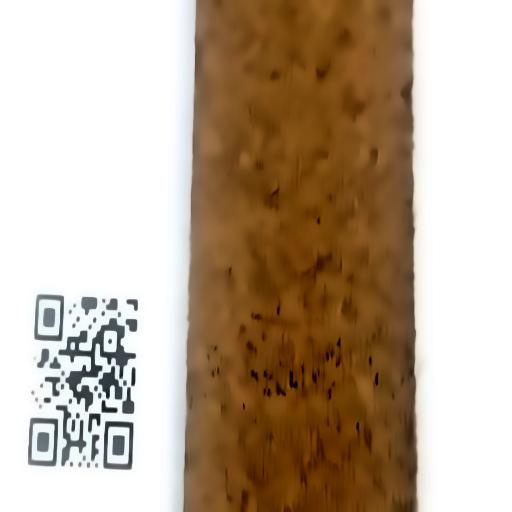egg: (324, 382, 340, 406), (210, 365, 226, 383), (286, 368, 298, 392), (369, 370, 384, 389), (247, 367, 262, 386), (270, 301, 284, 320), (330, 358, 345, 373), (239, 400, 253, 416), (363, 354, 378, 366), (264, 385, 274, 403), (321, 352, 334, 362), (353, 420, 362, 433)
